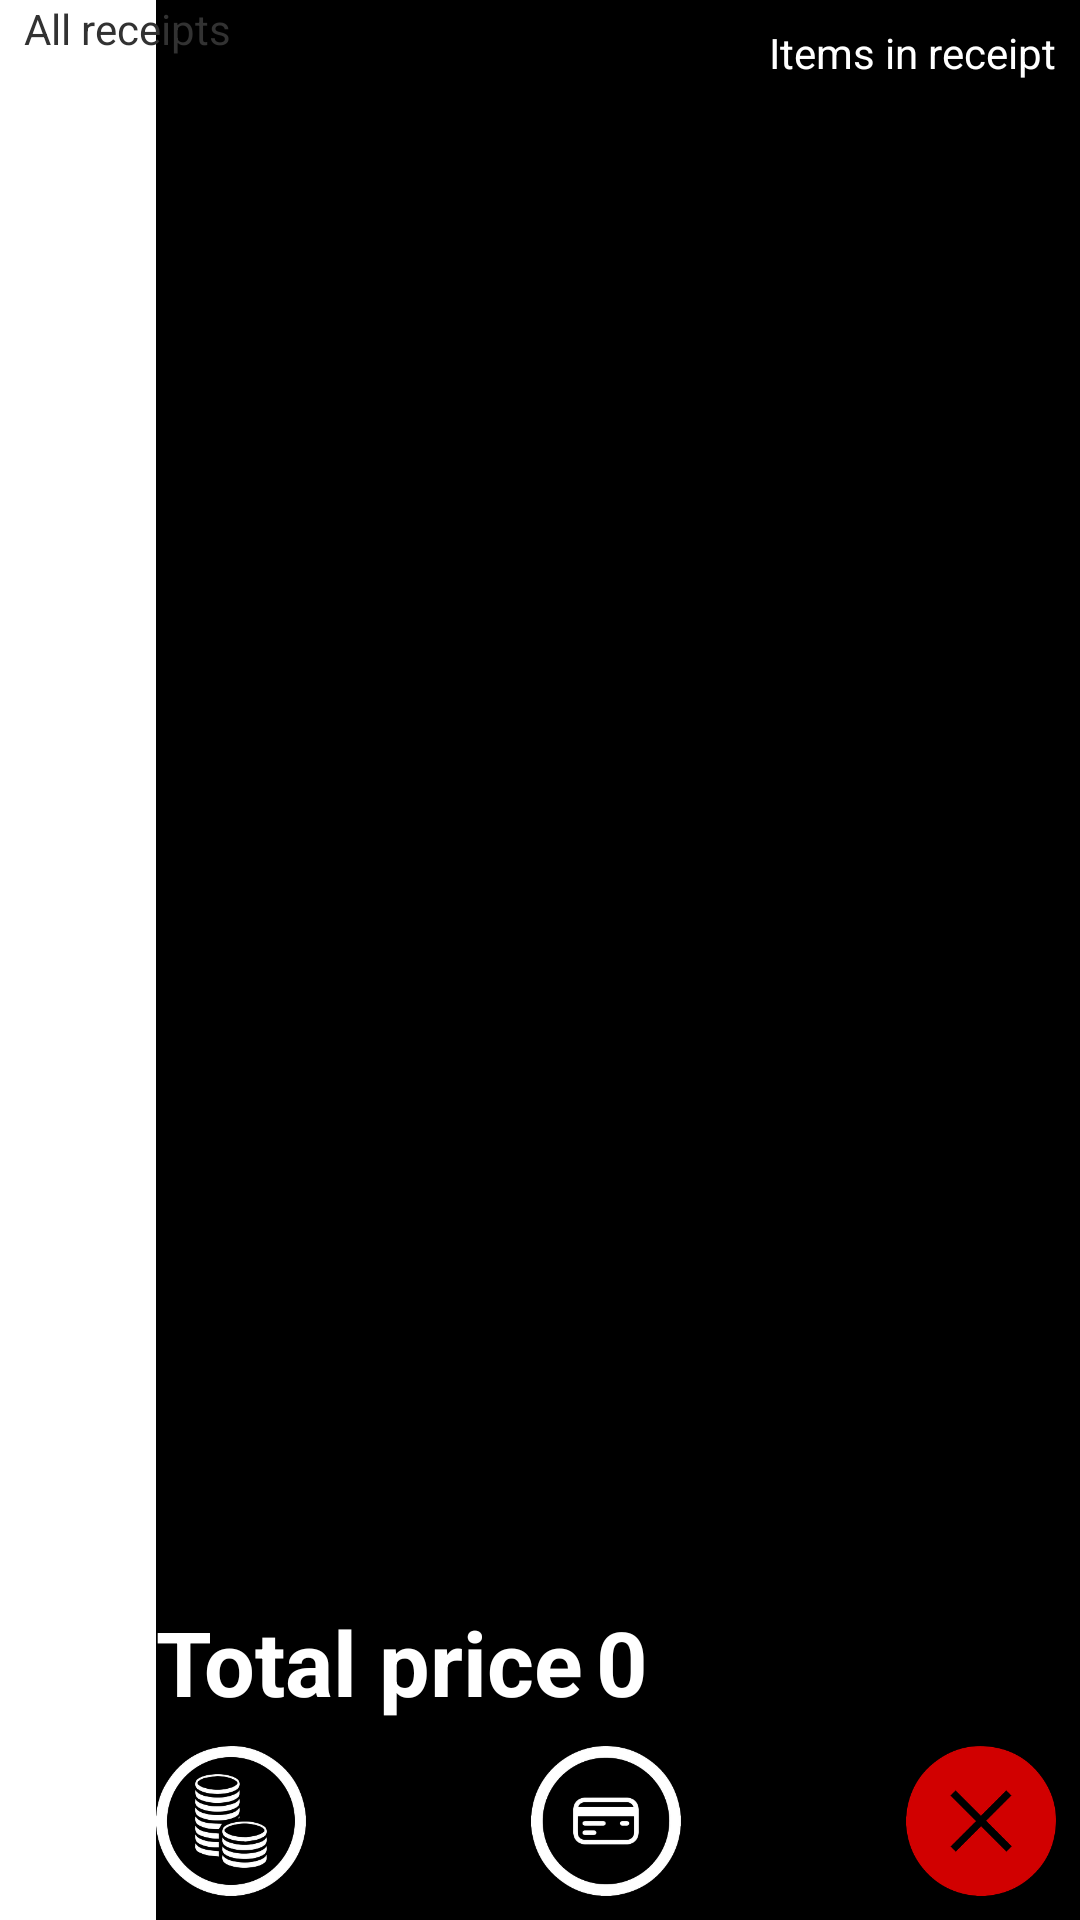

Icons on this 1080px×1920px Android screen, each with the point to tap as [x,y]:
coiny: [231,1821]
delete: [981,1821]
